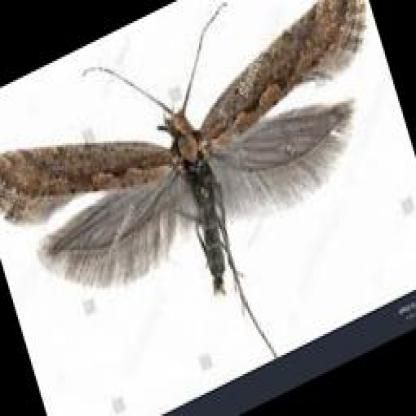plutella: (0, 0, 369, 361)
